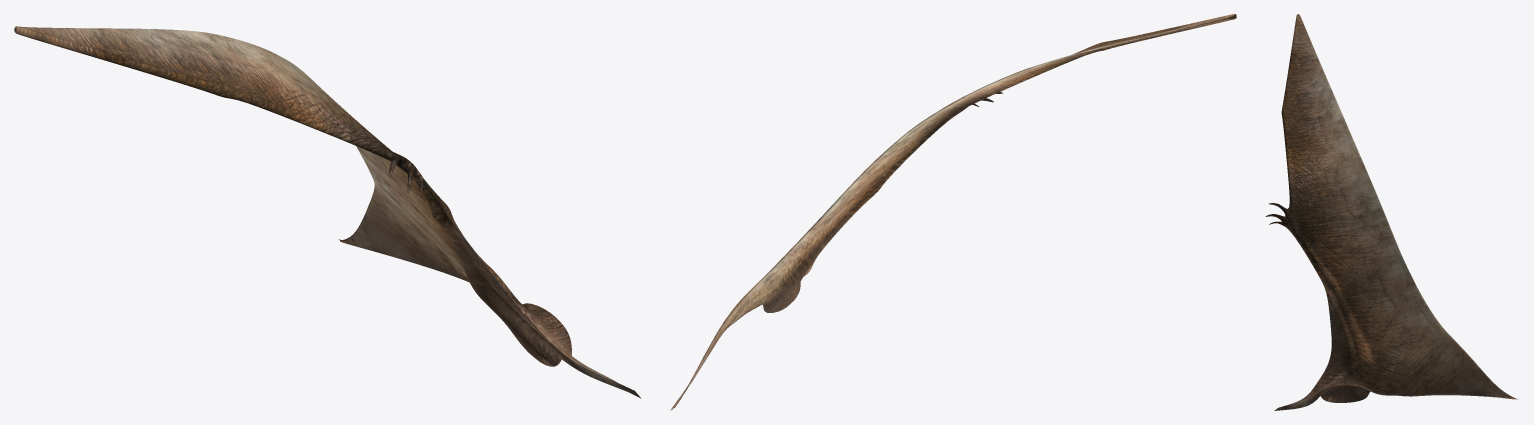
Rendered from AlaDer.obj.
The picture shows the model from 3 angles, left to right: view 1: azimuth 30°, elevation 25°; view 2: azimuth 150°, elevation 25°; view 3: azimuth 270°, elevation 25°; orthographic projection. The views are drawn at different scales.
Visible parts, largest first — view 1: Ala_Der; view 2: Ala_Der; view 3: Ala_Der.
Boxes of the visible parts, x1,y1,x2,y2 form: Ala_Der: (14,26,641,398); Ala_Der: (670,14,1236,410); Ala_Der: (1265,14,1518,410).
Size of the model in its own units: 10.99 by 8.84 by 8.03.
1 material, 1 textured.
